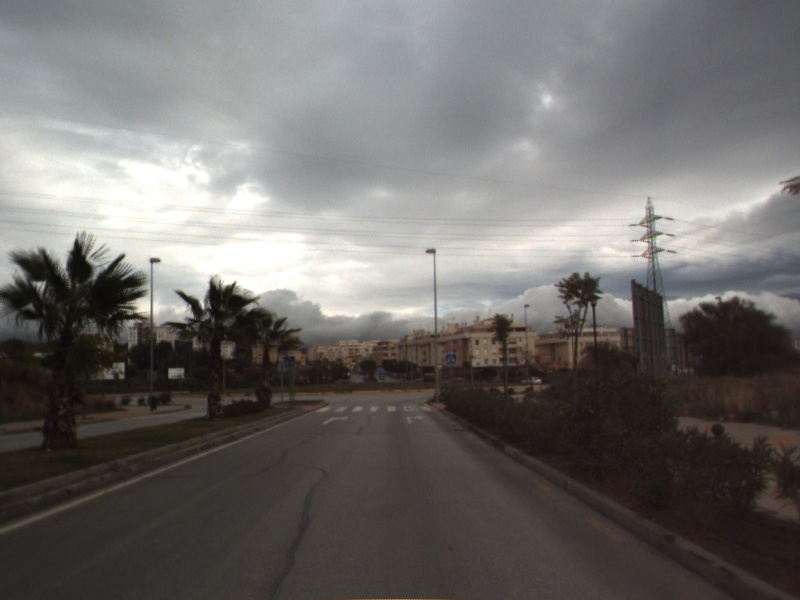RIGHT: (320, 414, 351, 426), (404, 413, 426, 425)
